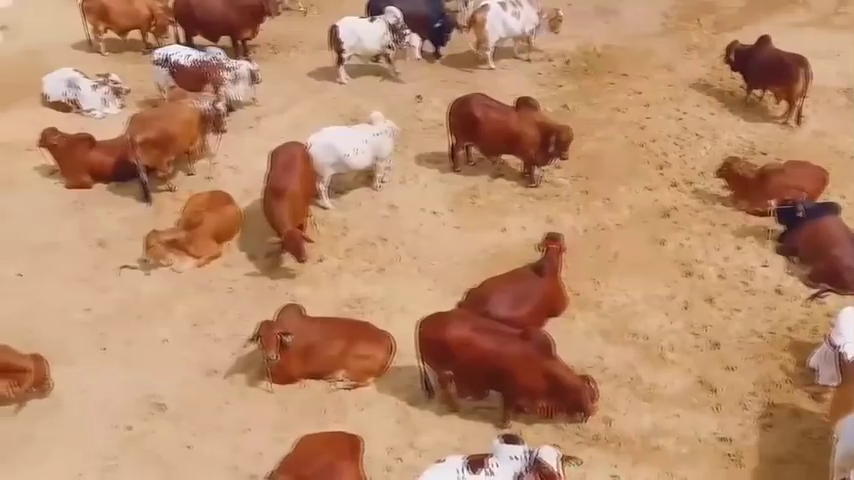bo: (409, 303, 602, 433), (442, 80, 580, 193), (249, 294, 400, 394), (457, 216, 584, 331), (702, 22, 831, 133), (124, 87, 227, 202), (757, 183, 854, 298), (24, 111, 137, 206), (390, 425, 582, 480), (708, 141, 840, 219), (306, 105, 401, 210), (320, 5, 433, 92), (147, 180, 246, 275), (140, 46, 270, 118), (258, 132, 319, 272), (23, 55, 135, 126), (164, 1, 286, 62), (465, 1, 571, 68), (73, 5, 181, 66), (361, 1, 460, 64), (268, 422, 374, 480), (813, 329, 854, 478), (2, 337, 55, 424), (806, 307, 854, 383)
